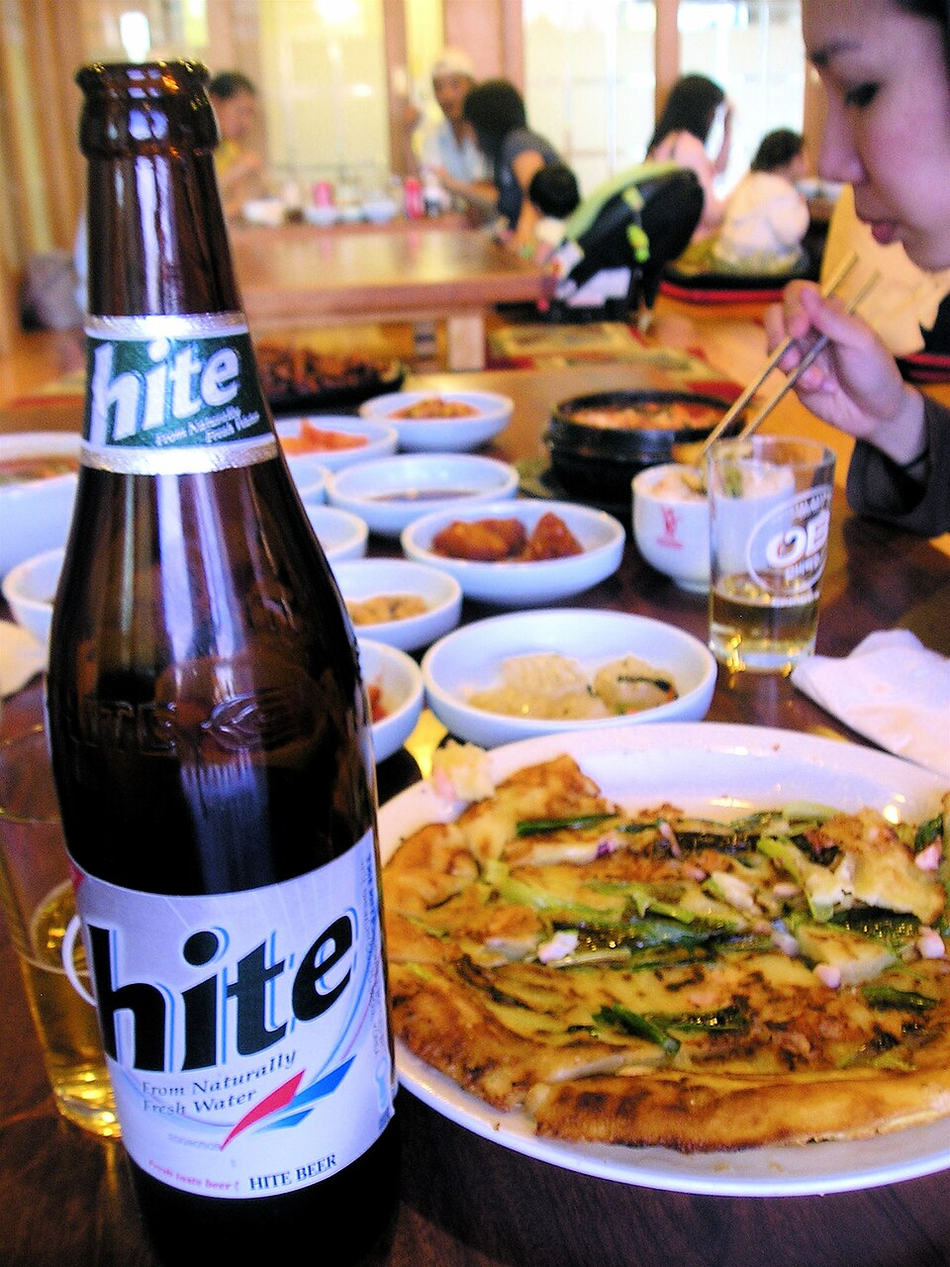beer-bottle: (26, 39, 406, 1264)
